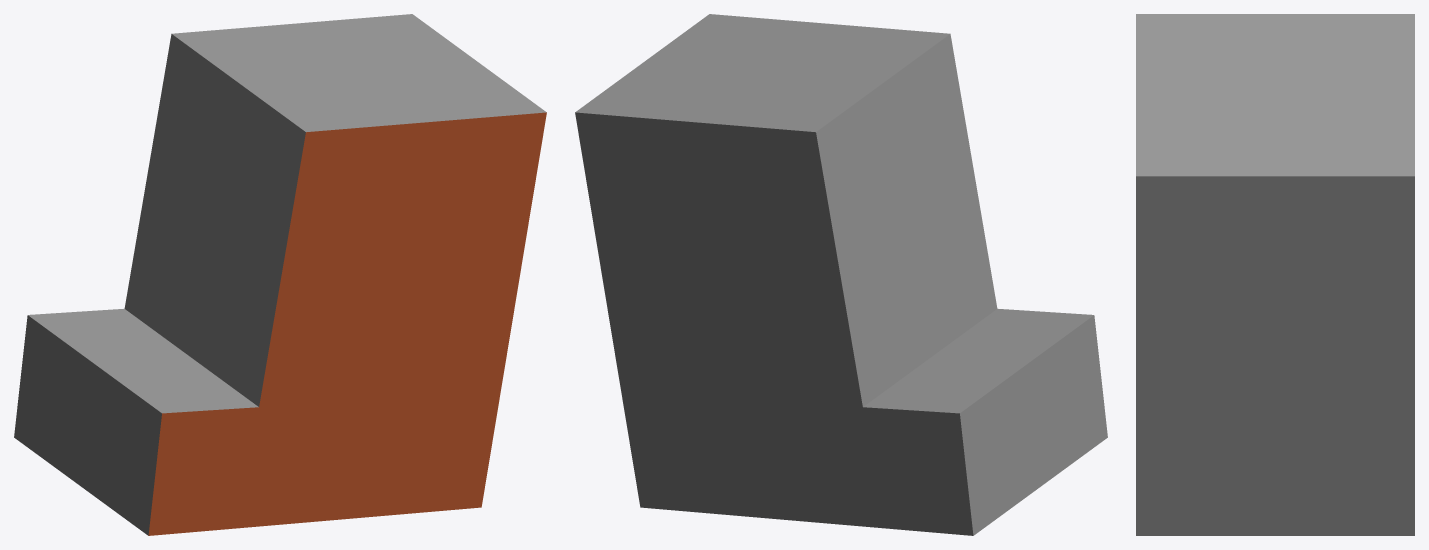
Rendered from construction_1568_assumed_A_Casa_h6m.obj.
The picture shows the model from 3 angles, left to right: view 1: azimuth 30°, elevation 25°; view 2: azimuth 150°, elevation 25°; view 3: azimuth 270°, elevation 25°; orthographic projection. The views are drawn at different scales.
Parts seen in each view (by area): view 1: construction_1568_assumed_A_Casa; view 2: construction_1568_assumed_A_Casa; view 3: construction_1568_assumed_A_Casa.
Boxes of the visible parts, x1,y1,x2,y2 form: construction_1568_assumed_A_Casa: (14, 14, 546, 535); construction_1568_assumed_A_Casa: (575, 14, 1107, 535); construction_1568_assumed_A_Casa: (1136, 14, 1414, 535).
Bounding box in the file's own units: 10.26 × 10.29 × 6.
